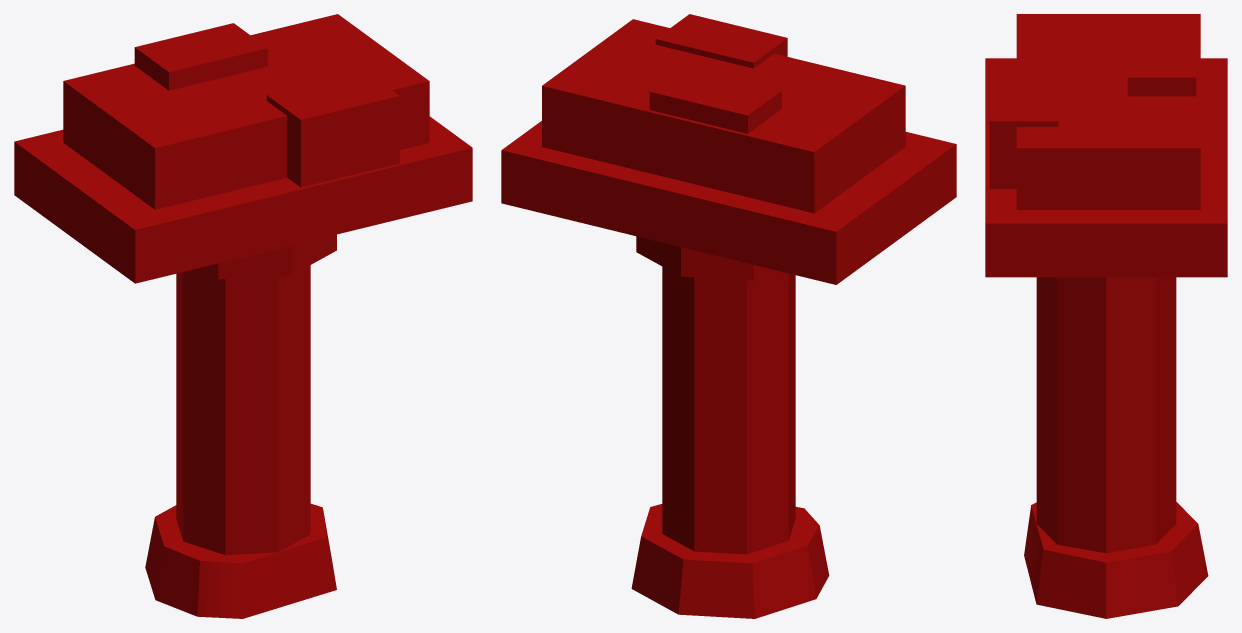
Rendered from SM_Bld_Giant_Column_01_Collision.glb.
3 renders of one model, left to right at view 1: azimuth 30°, elevation 25°; view 2: azimuth 150°, elevation 25°; view 3: azimuth 270°, elevation 25°, orthographic.
Parts seen in each view (by area): view 1: SM_Bld_Giant_Column_01_Collision; view 2: SM_Bld_Giant_Column_01_Collision; view 3: SM_Bld_Giant_Column_01_Collision.
Boxes of the visible parts, <box> form: SM_Bld_Giant_Column_01_Collision: <box>14,14,472,618</box>; SM_Bld_Giant_Column_01_Collision: <box>501,14,956,618</box>; SM_Bld_Giant_Column_01_Collision: <box>985,14,1227,618</box>.
Bounding box in the file's own units: 7.92 × 11.56 × 4.92.
